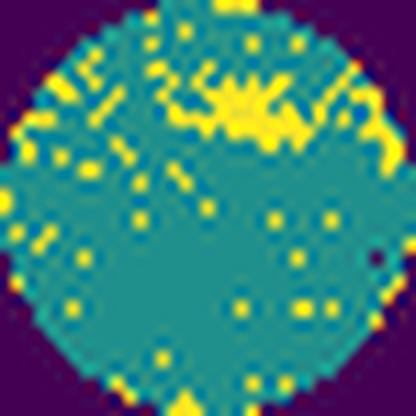Loc: (146, 54, 316, 156), (345, 85, 401, 177)
